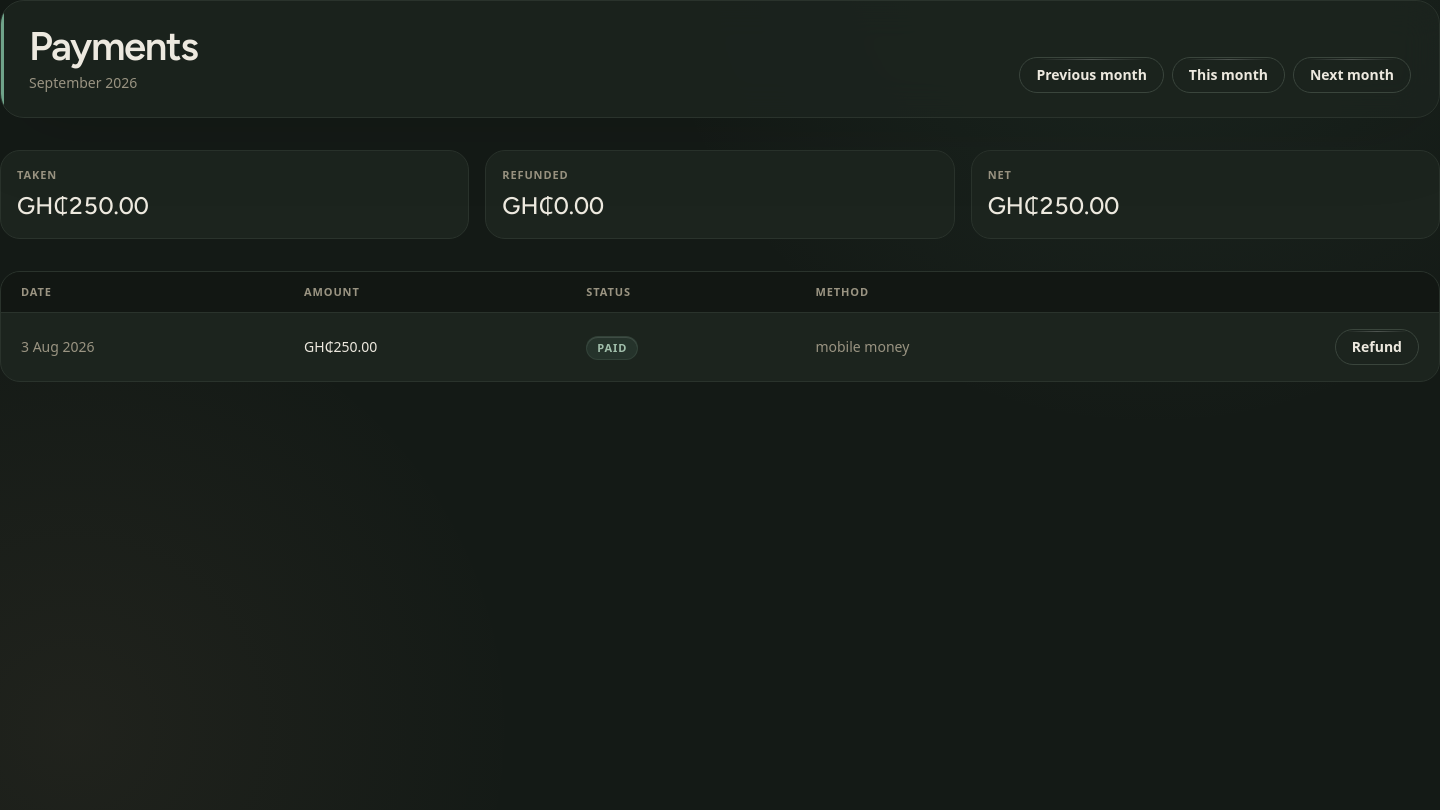
PaymentsPage › surfaces a failed refund
Click the button "Refund".
click(1377, 347)  # box [1335,329,1419,365]
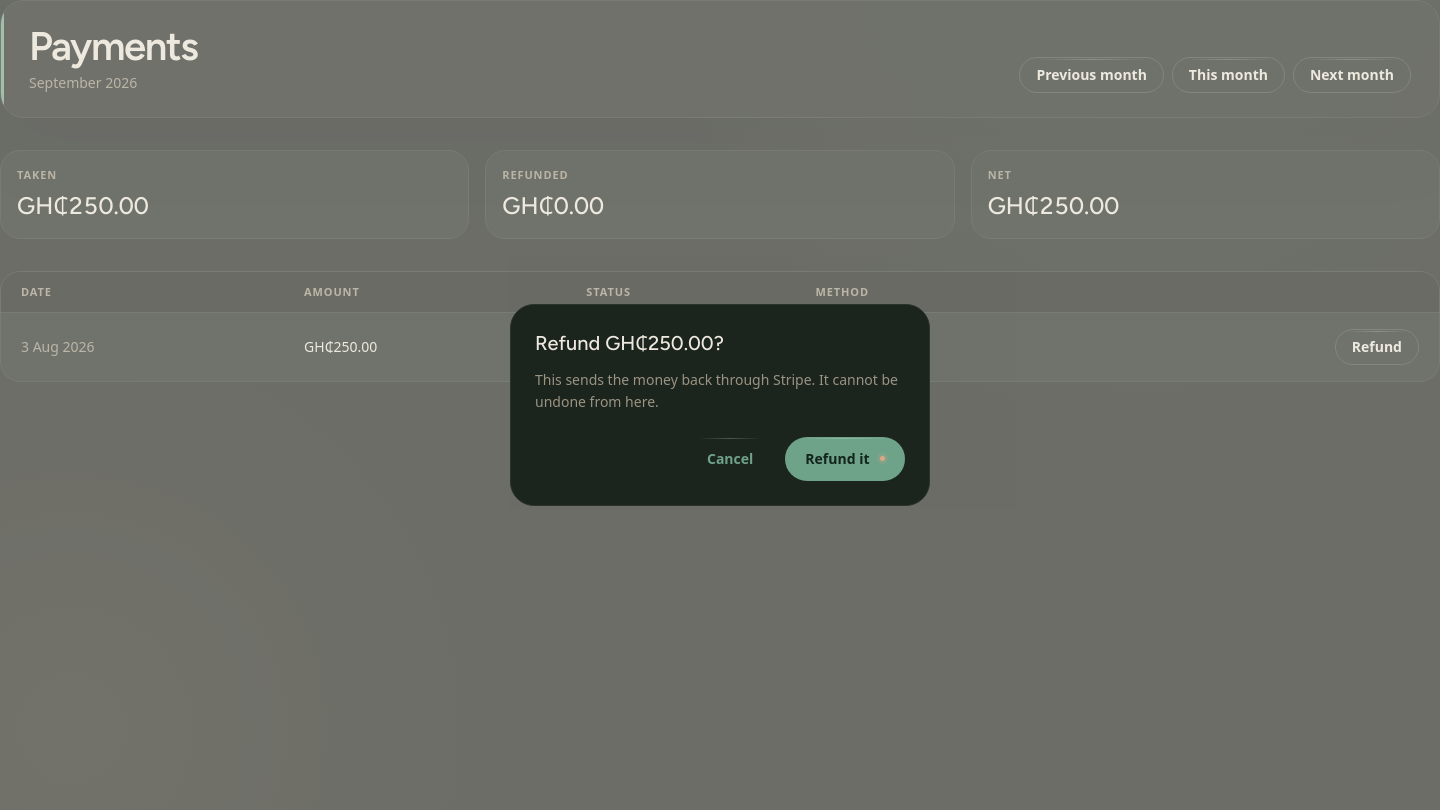
Click the button "Refund it".
click(845, 459)  # box [785,437,905,481]
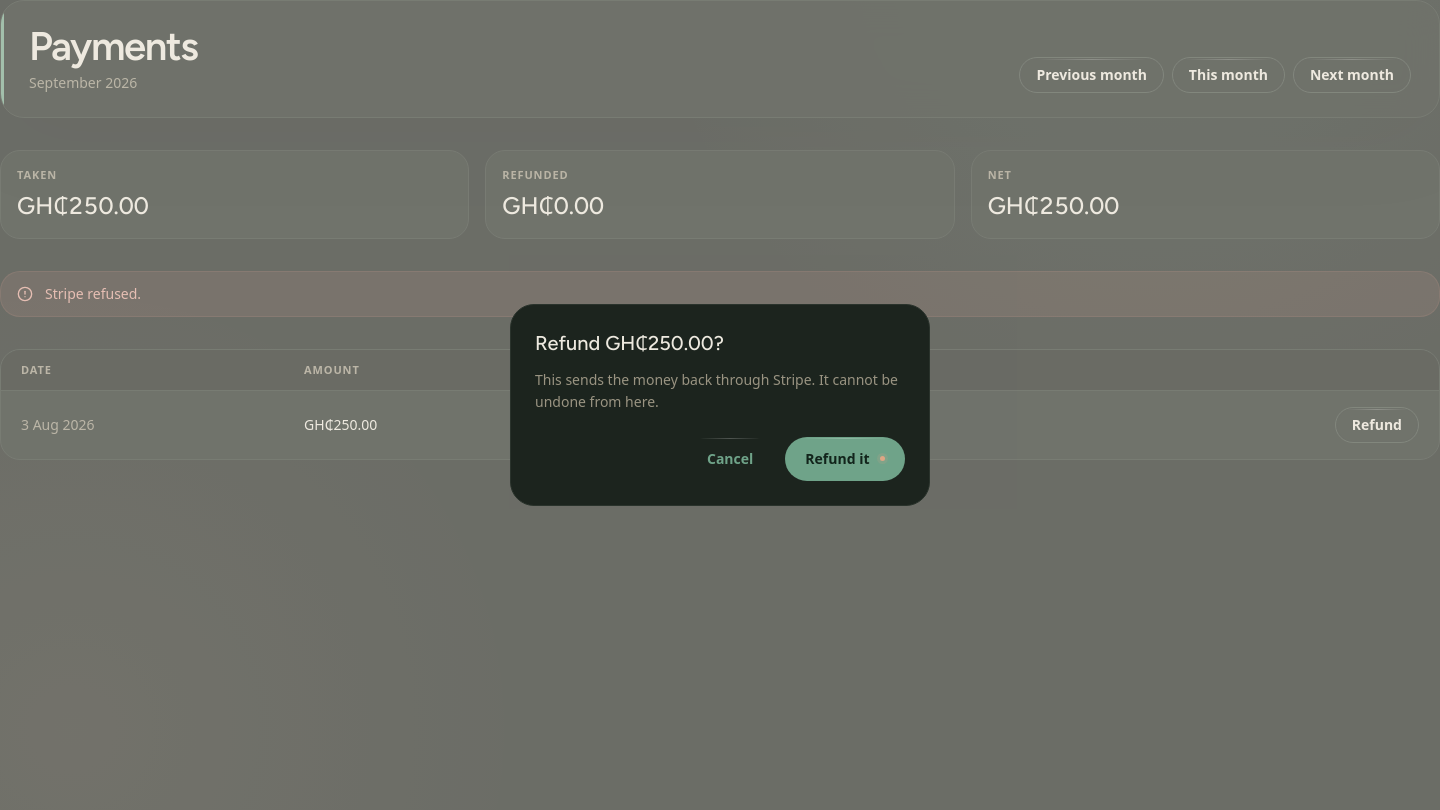
Result: the message reads "Stripe refused." at [45,284,141,302]
